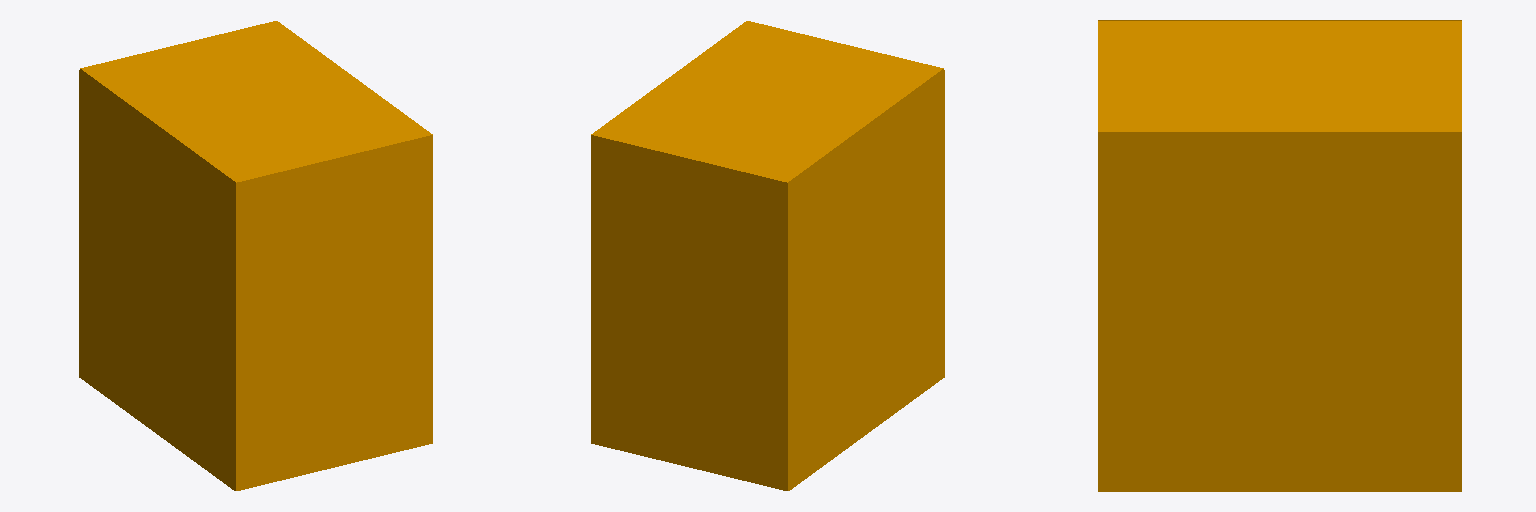
The robot description file, URDF, robot "package_box":
<?xml version="1.0"?>
<robot name="package_box">
  <link name="base_link">
    <inertial>
      <origin xyz="0 0 0" rpy="-1.570796327 0 0"/>
      <mass value="1.0"/>
      <inertia
        ixx="0.00220983"
        ixy="0"
        ixz="0"
        iyy="0.00128087"
        iyz="0"
        izz="0.00244903"/>
    </inertial>

    <visual>
      <origin xyz="0 0 -0.12" rpy="0 0 0"/>
      <geometry>
        <mesh filename="package://robotic_arm/textures/box/box.dae"/>
      </geometry>
    </visual>

    <collision>
      <origin xyz="0 0 0" rpy="0 0 0"/>
      <geometry>
        <box size="0.16 0.22 0.24"/>
      </geometry>
    </collision>
  </link>

  <gazebo reference="base_link">
    <self_collide>false</self_collide>
    <gravity>true</gravity>
    <kinematic>false</kinematic>
    <mu1>1.0</mu1>
    <mu2>1.0</mu2>
    <kp>1.0e13</kp>
    <kd>1.0</kd>
    <max_vel>0.01</max_vel>
    <min_depth>0.0</min_depth>
  </gazebo>
</robot>

--- What the picture shows (computed from the rendered views, not written in the file) ---
3 views of the same robot in one strip: view 1: azimuth 30°, elevation 25°; view 2: azimuth 150°, elevation 25°; view 3: azimuth 270°, elevation 25° (orthographic).
Model package_box with 1 links and 0 joints (none), rooted at base_link, posed all joints at 0.
Links seen in each view (by area): view 1: base_link; view 2: base_link; view 3: base_link.
Link boxes in pixels (x1=…): base_link: x1=79, y1=21, x2=432, y2=490; base_link: x1=591, y1=21, x2=944, y2=490; base_link: x1=1098, y1=20, x2=1461, y2=491.
Bounding box of the posed robot: 0.1615 × 0.22 × 0.24 m (x, y, z).
Meshes: 1 distinct files referenced, 1 mesh visuals loaded (1 Collada DAE).
